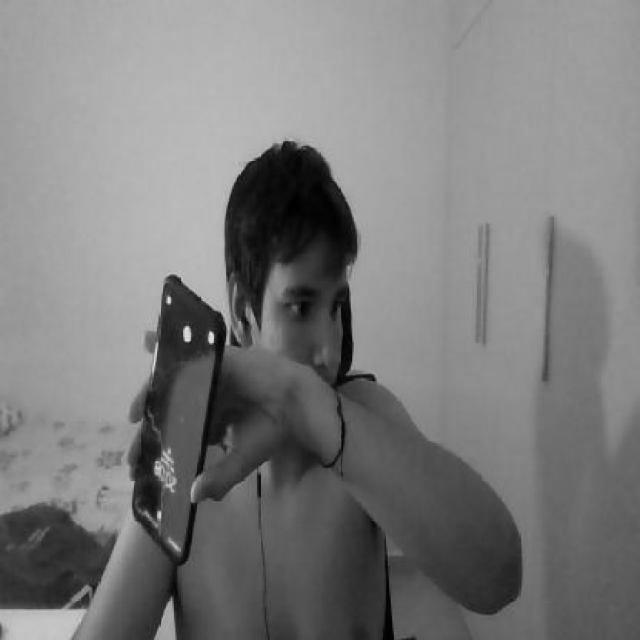fake: (132, 278, 226, 571)
